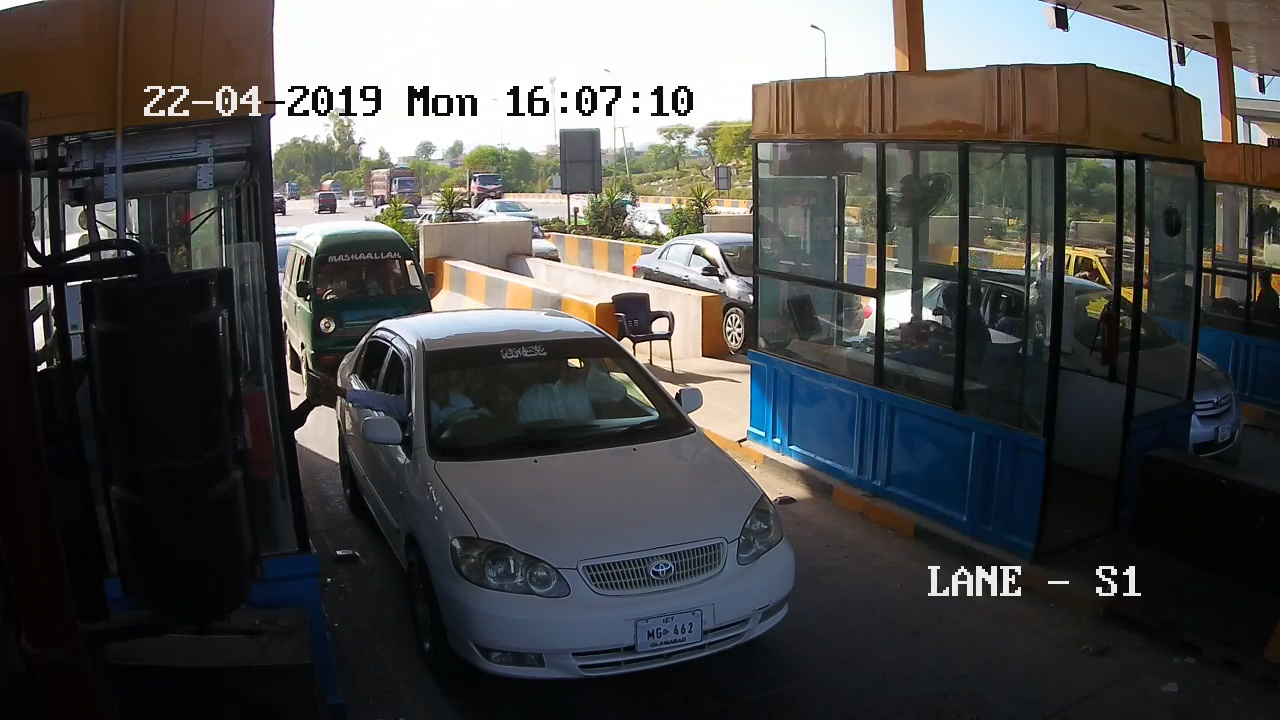Number Plate (Car): (635, 613, 699, 647)
